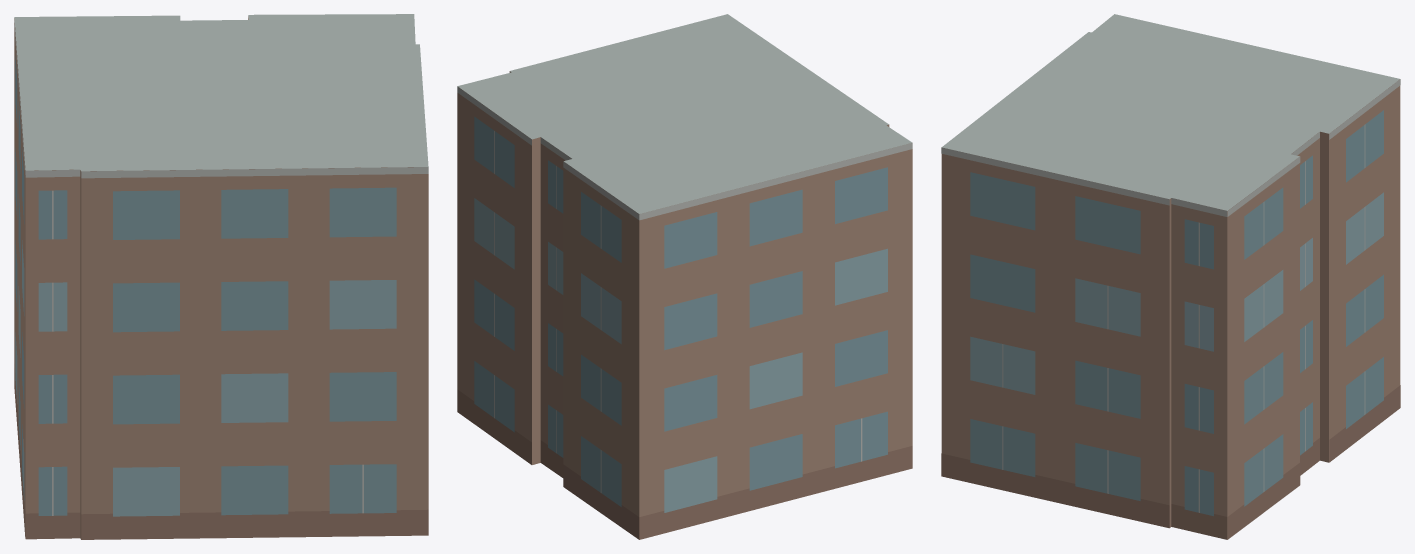
The model's file is survey-upis-32657330.glb.
The picture shows the model from 3 angles, left to right: view 1: azimuth 30°, elevation 25°; view 2: azimuth 150°, elevation 25°; view 3: azimuth 270°, elevation 25°; orthographic projection. The views are drawn at different scales.
Visible parts, largest first — view 1: survey-upis-32657330.tmp; view 2: survey-upis-32657330.tmp; view 3: survey-upis-32657330.tmp.
Part boxes in pixels (x1,y1,x2,y2): survey-upis-32657330.tmp: [14, 14, 428, 539]; survey-upis-32657330.tmp: [457, 14, 912, 539]; survey-upis-32657330.tmp: [941, 14, 1400, 539].
Size of the model in its own units: 16.29 by 12.69 by 16.05.
